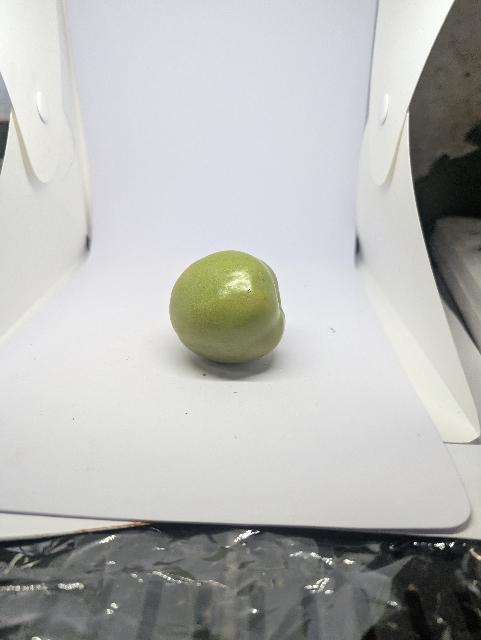green: (168, 248, 287, 368)
